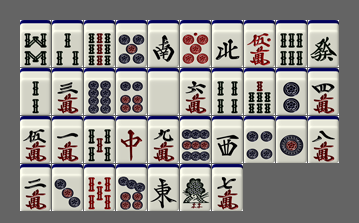0m: (244, 20, 275, 67)
0p: (180, 20, 211, 67)
0s: (84, 164, 115, 211)
1m: (52, 116, 83, 163)
1p: (276, 116, 307, 163)
1s: (180, 164, 211, 211)
1z: (148, 164, 179, 211)
2m: (20, 164, 51, 211)
2p: (276, 68, 307, 115)
2s: (20, 68, 51, 115)
2z: (148, 20, 179, 67)
3m: (52, 68, 83, 115)
3p: (52, 164, 83, 211)
3s: (52, 20, 83, 67)
3z: (212, 116, 243, 163)
4m: (308, 68, 339, 115)
4p: (244, 116, 275, 163)
4s: (212, 68, 243, 115)
4z: (212, 20, 243, 67)
5m: (20, 116, 51, 163)
5p: (116, 20, 147, 67)
5s: (84, 116, 115, 163)
5z: (148, 68, 179, 115)
6m: (180, 68, 211, 115)
6p: (116, 68, 147, 115)
6s: (276, 20, 307, 67)
6z: (308, 20, 339, 67)
7m: (212, 164, 243, 211)
7p: (116, 164, 147, 211)
7s: (244, 68, 275, 115)
7z: (116, 116, 147, 163)
8m: (308, 116, 339, 163)
8p: (84, 68, 115, 115)
8s: (20, 20, 51, 67)
9m: (148, 116, 179, 163)
9p: (180, 116, 211, 163)
9s: (84, 20, 115, 67)
